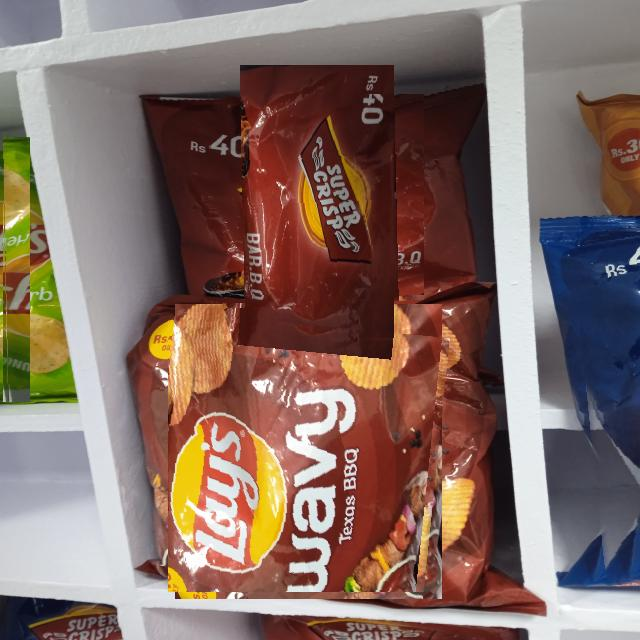Plastic: (168, 311, 450, 592), (209, 94, 424, 309), (570, 232, 640, 586), (2, 136, 30, 402)
